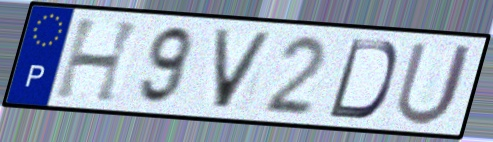2: (260, 33, 331, 117)
9: (135, 24, 198, 107)
D: (324, 36, 401, 122)
H: (51, 16, 146, 105)
U: (391, 39, 478, 128)
V: (210, 26, 278, 112)
